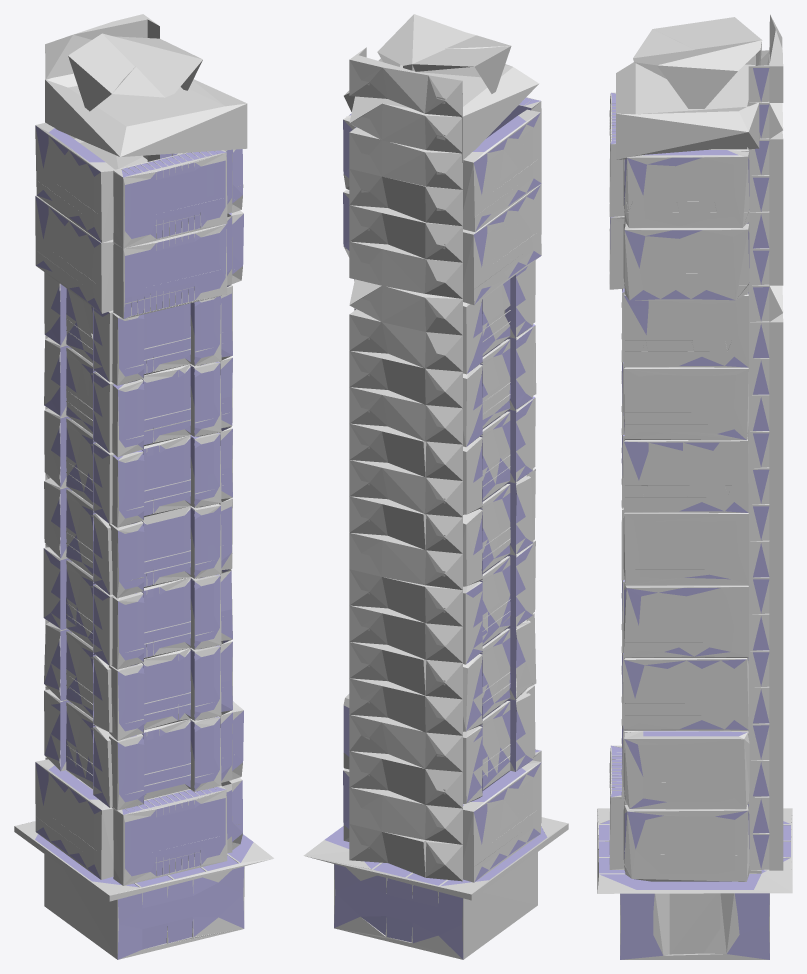
The model's file is skyscraper1_collider.fbx.
3 views of the same model, side by side, from view 1: azimuth 30°, elevation 25°; view 2: azimuth 150°, elevation 25°; view 3: azimuth 270°, elevation 25° (orthographic). The views are drawn at different scales.
Visible parts, largest first — view 1: skyscraper1_collider; view 2: skyscraper1_collider; view 3: skyscraper1_collider.
Boxes of the visible parts, left/top/right/bottom form: skyscraper1_collider: left=14, top=14, right=273, bottom=959; skyscraper1_collider: left=303, top=14, right=568, bottom=959; skyscraper1_collider: left=597, top=14, right=792, bottom=959.
Size of the model in its own units: 2000 by 10000 by 2000.
